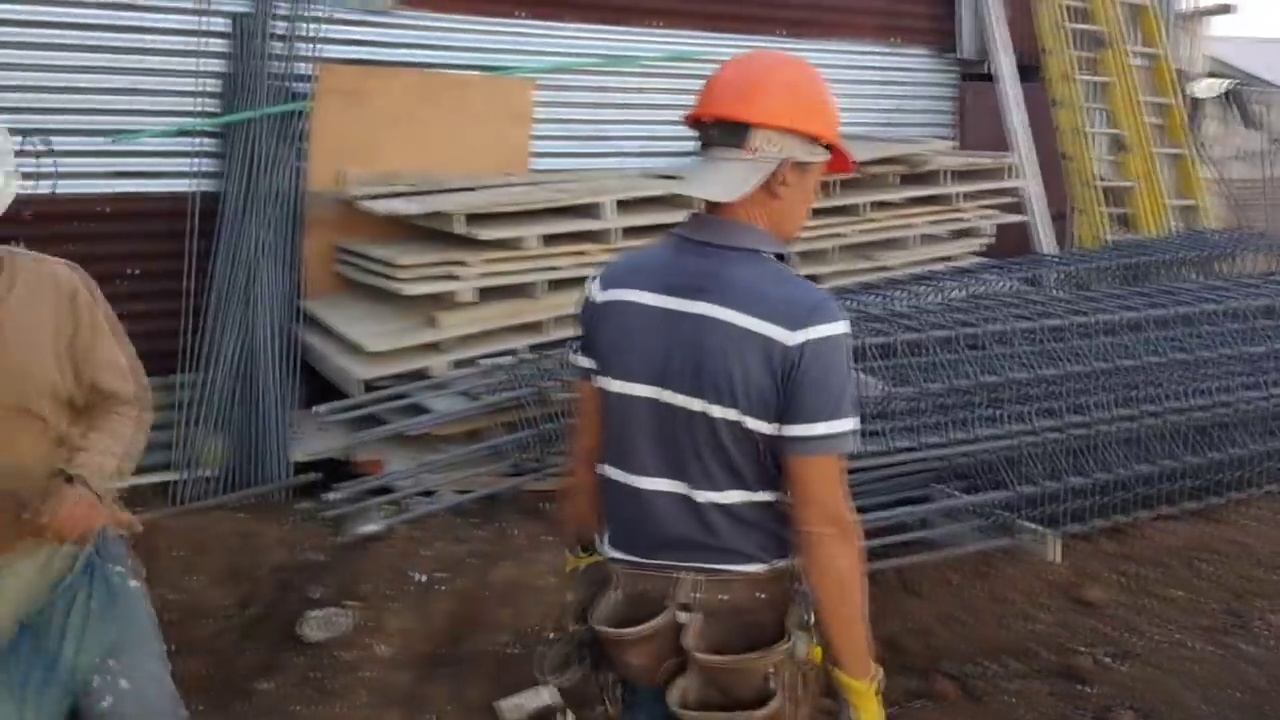helmet: (679, 49, 859, 173)
helmet-on: (667, 46, 861, 258)
person: (555, 44, 886, 720), (0, 237, 192, 720)
